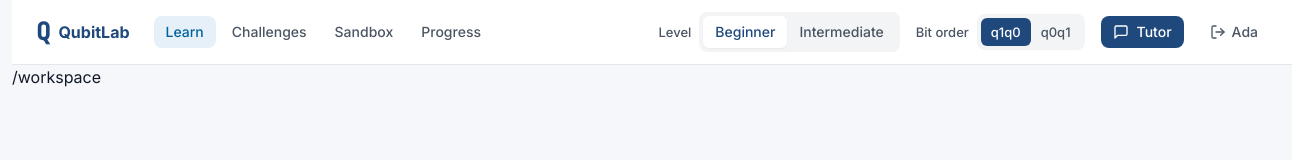
Test: B09/B25 every navbar control does something › exposes a log-out control with an accessible name
Click the button named "Log out": [1234, 32] box 1200,16 -> 1268,48
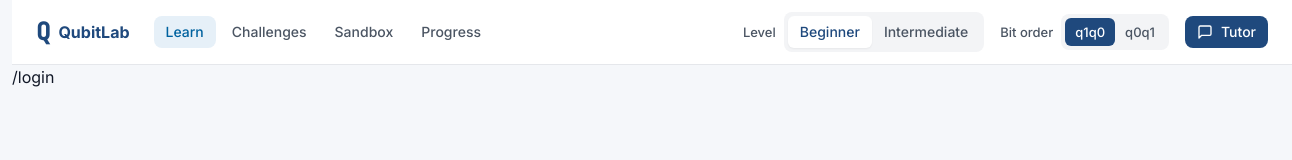
Expected: the text with test id "where" reads "/login", 12,67 -> 54,87
